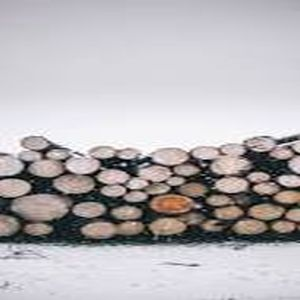log: (7, 194, 73, 222), (52, 172, 98, 199), (209, 153, 252, 176), (149, 215, 184, 241), (149, 193, 196, 212), (79, 218, 116, 242), (27, 160, 67, 182), (209, 175, 250, 196), (150, 145, 190, 166), (108, 203, 147, 224), (245, 201, 285, 221), (229, 218, 271, 236), (68, 154, 99, 176), (1, 178, 33, 199), (19, 222, 56, 240), (72, 201, 106, 219), (138, 164, 171, 182), (19, 134, 51, 151), (244, 136, 278, 152), (99, 168, 131, 185), (179, 181, 211, 198), (196, 218, 230, 234), (211, 205, 246, 220), (116, 219, 143, 238), (269, 217, 296, 236), (42, 147, 76, 162), (270, 189, 300, 206), (1, 155, 24, 177), (98, 181, 126, 199), (252, 180, 279, 198), (1, 215, 20, 239), (205, 192, 233, 208), (220, 142, 246, 159), (15, 148, 44, 163), (191, 145, 220, 160), (173, 163, 200, 178), (124, 187, 146, 204), (145, 181, 169, 196), (268, 146, 293, 160), (247, 169, 270, 184), (93, 146, 116, 160), (115, 148, 141, 160), (125, 176, 148, 189), (277, 173, 300, 186), (165, 175, 185, 187)
